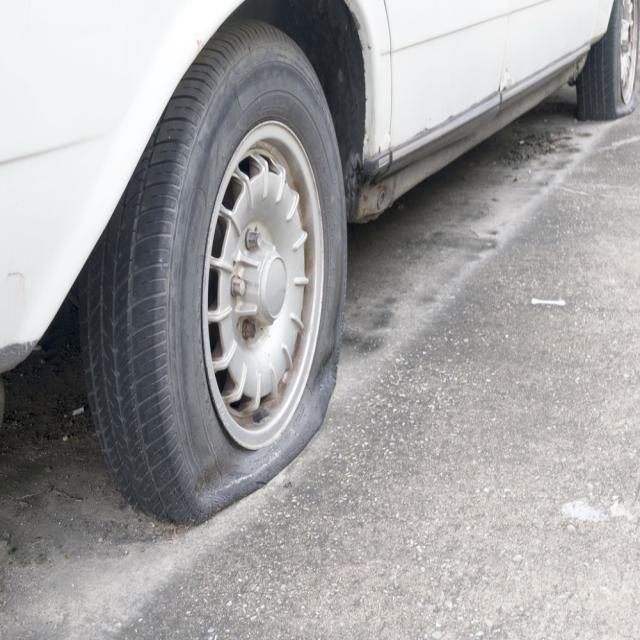tire flat: (78, 18, 346, 528), (577, 0, 640, 119)
